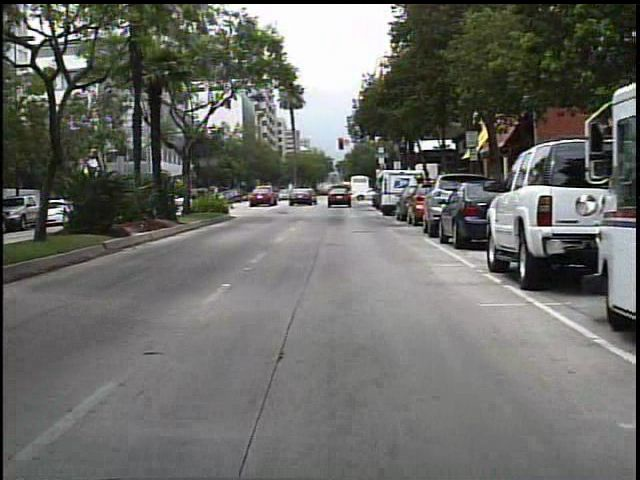person: (340, 181, 356, 203), (304, 184, 318, 205)
